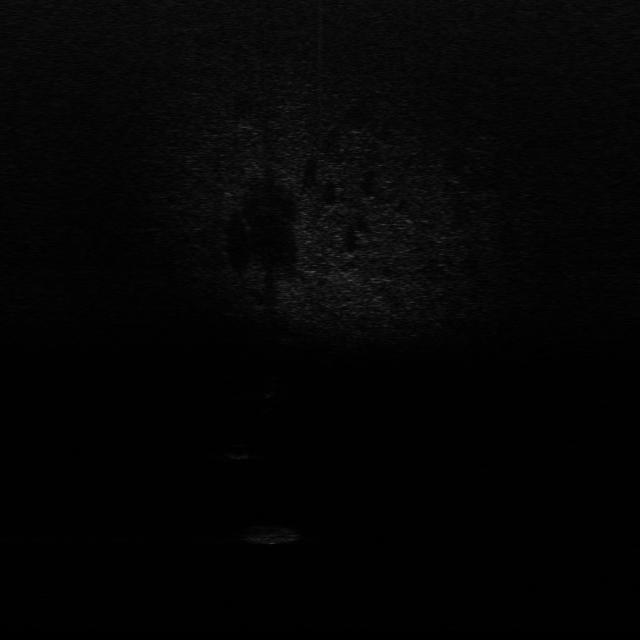ball: (228, 442, 252, 461)
circle cage: (240, 522, 310, 547)
human body: (258, 370, 287, 413)
